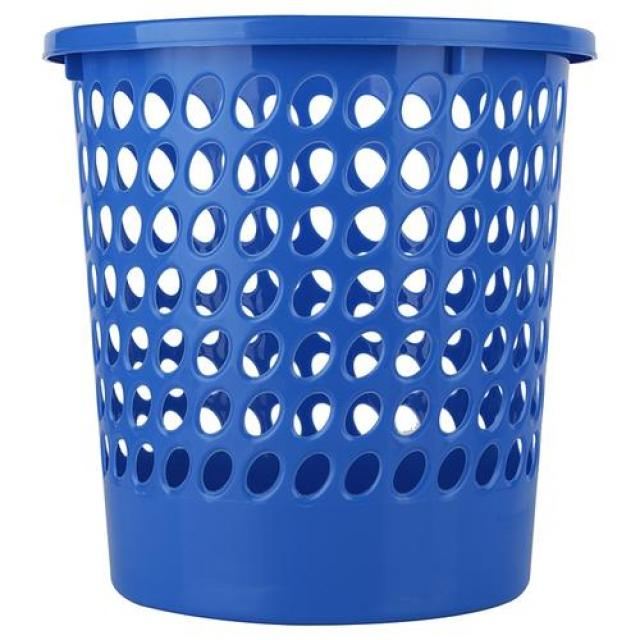Dustbin: (38, 9, 602, 631)
